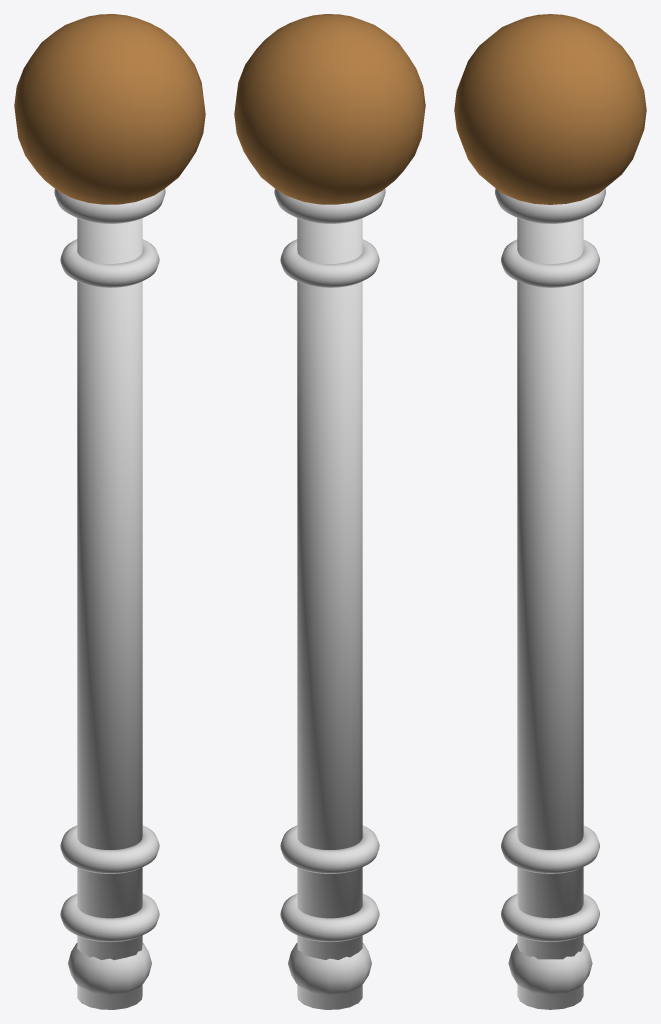
The model's file is dui_mo_v2.glb.
The picture shows the model from 3 angles, left to right: view 1: azimuth 30°, elevation 25°; view 2: azimuth 150°, elevation 25°; view 3: azimuth 270°, elevation 25°; orthographic projection.
Parts seen in each view (by area): view 1: DuiMoV2; view 2: DuiMoV2; view 3: DuiMoV2.
Boxes of the visible parts, bbox=[...] form: DuiMoV2: bbox=[14, 14, 205, 1009]; DuiMoV2: bbox=[234, 14, 425, 1009]; DuiMoV2: bbox=[454, 14, 646, 1009].
Bounding box in the file's own units: 0.064 × 0.357 × 0.064.
